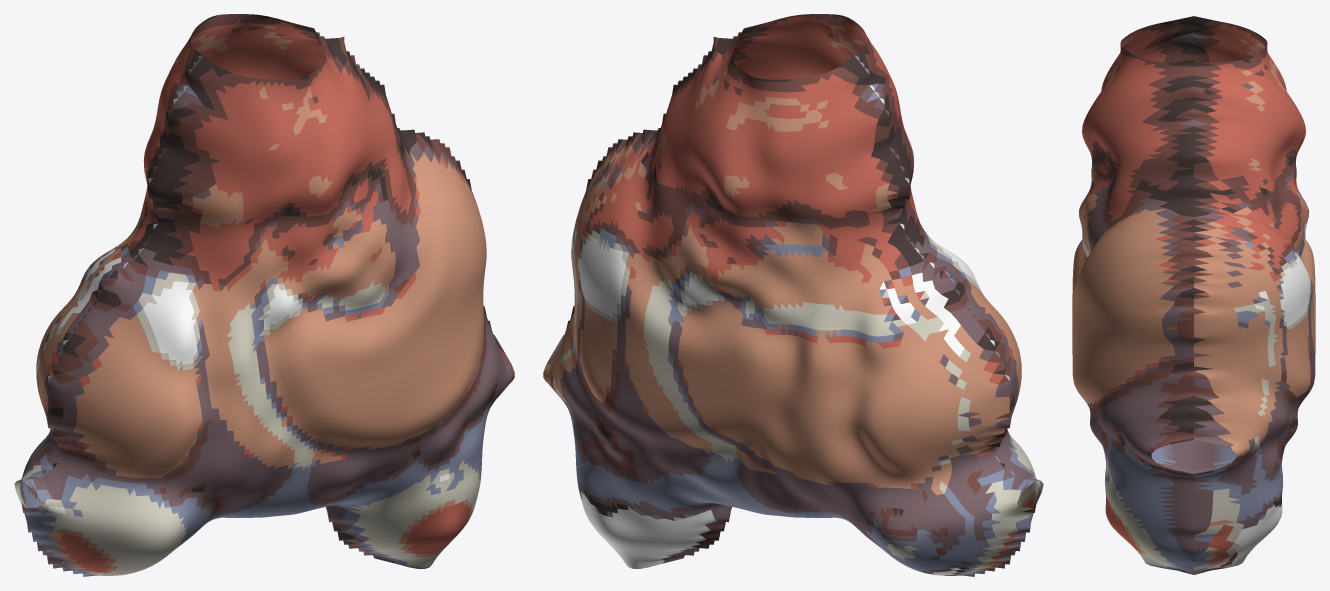
Rendered from bookkuddoong.glb.
The picture shows the model from 3 angles, left to right: view 1: azimuth 30°, elevation 25°; view 2: azimuth 150°, elevation 25°; view 3: azimuth 270°, elevation 25°; orthographic projection. The views are drawn at different scales.
Visible parts, largest first — view 1: bookkuddoong; view 2: bookkuddoong; view 3: bookkuddoong.
Boxes of the visible parts, x1,y1,x2,y2 form: bookkuddoong: (14,14,514,576); bookkuddoong: (543,14,1043,576); bookkuddoong: (1072,16,1315,574).
Size of the model in its own units: 663 by 732 by 345.
